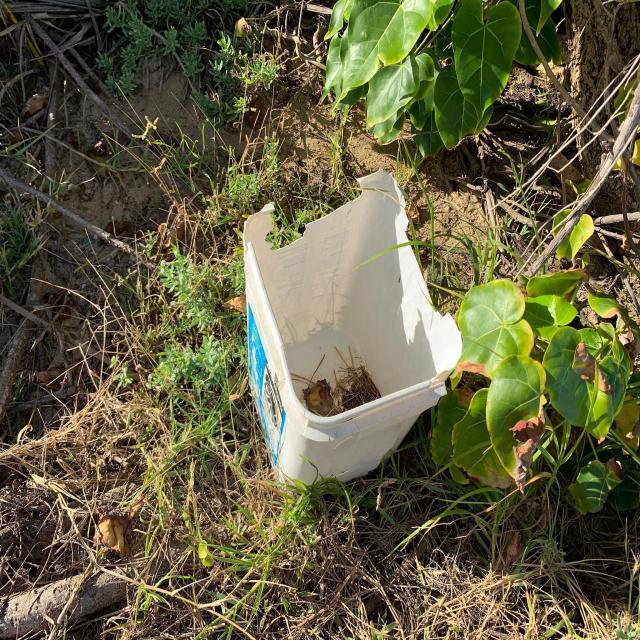litter: (216, 142, 483, 505)
